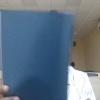notebook: (0, 8, 75, 99)
